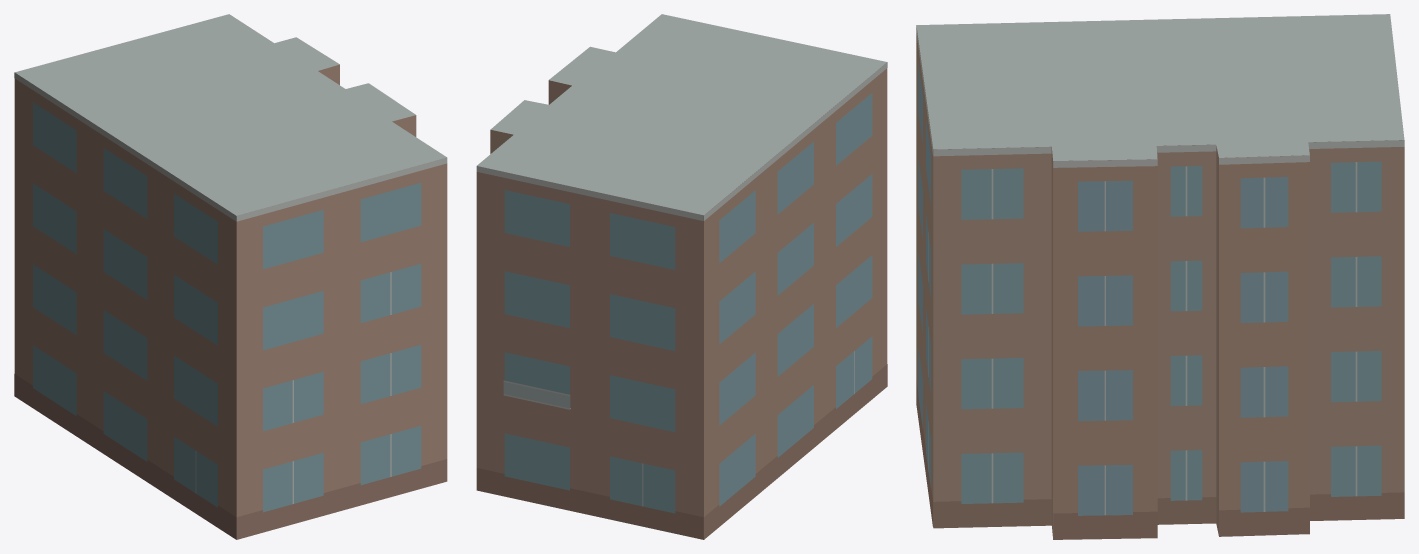
The model's file is survey-upis-32743163.glb.
The picture shows the model from 3 angles, left to right: view 1: azimuth 30°, elevation 25°; view 2: azimuth 150°, elevation 25°; view 3: azimuth 270°, elevation 25°; orthographic projection. The views are drawn at different scales.
Visible parts, largest first — view 1: survey-upis-32743163.tmp; view 2: survey-upis-32743163.tmp; view 3: survey-upis-32743163.tmp.
Part boxes in pixels (x1=…): survey-upis-32743163.tmp: x1=14, y1=14, x2=447, y2=539; survey-upis-32743163.tmp: x1=476, y1=14, x2=887, y2=539; survey-upis-32743163.tmp: x1=916, y1=14, x2=1404, y2=539.
Size of the model in its own units: 11.25 by 13.5 by 15.78.
